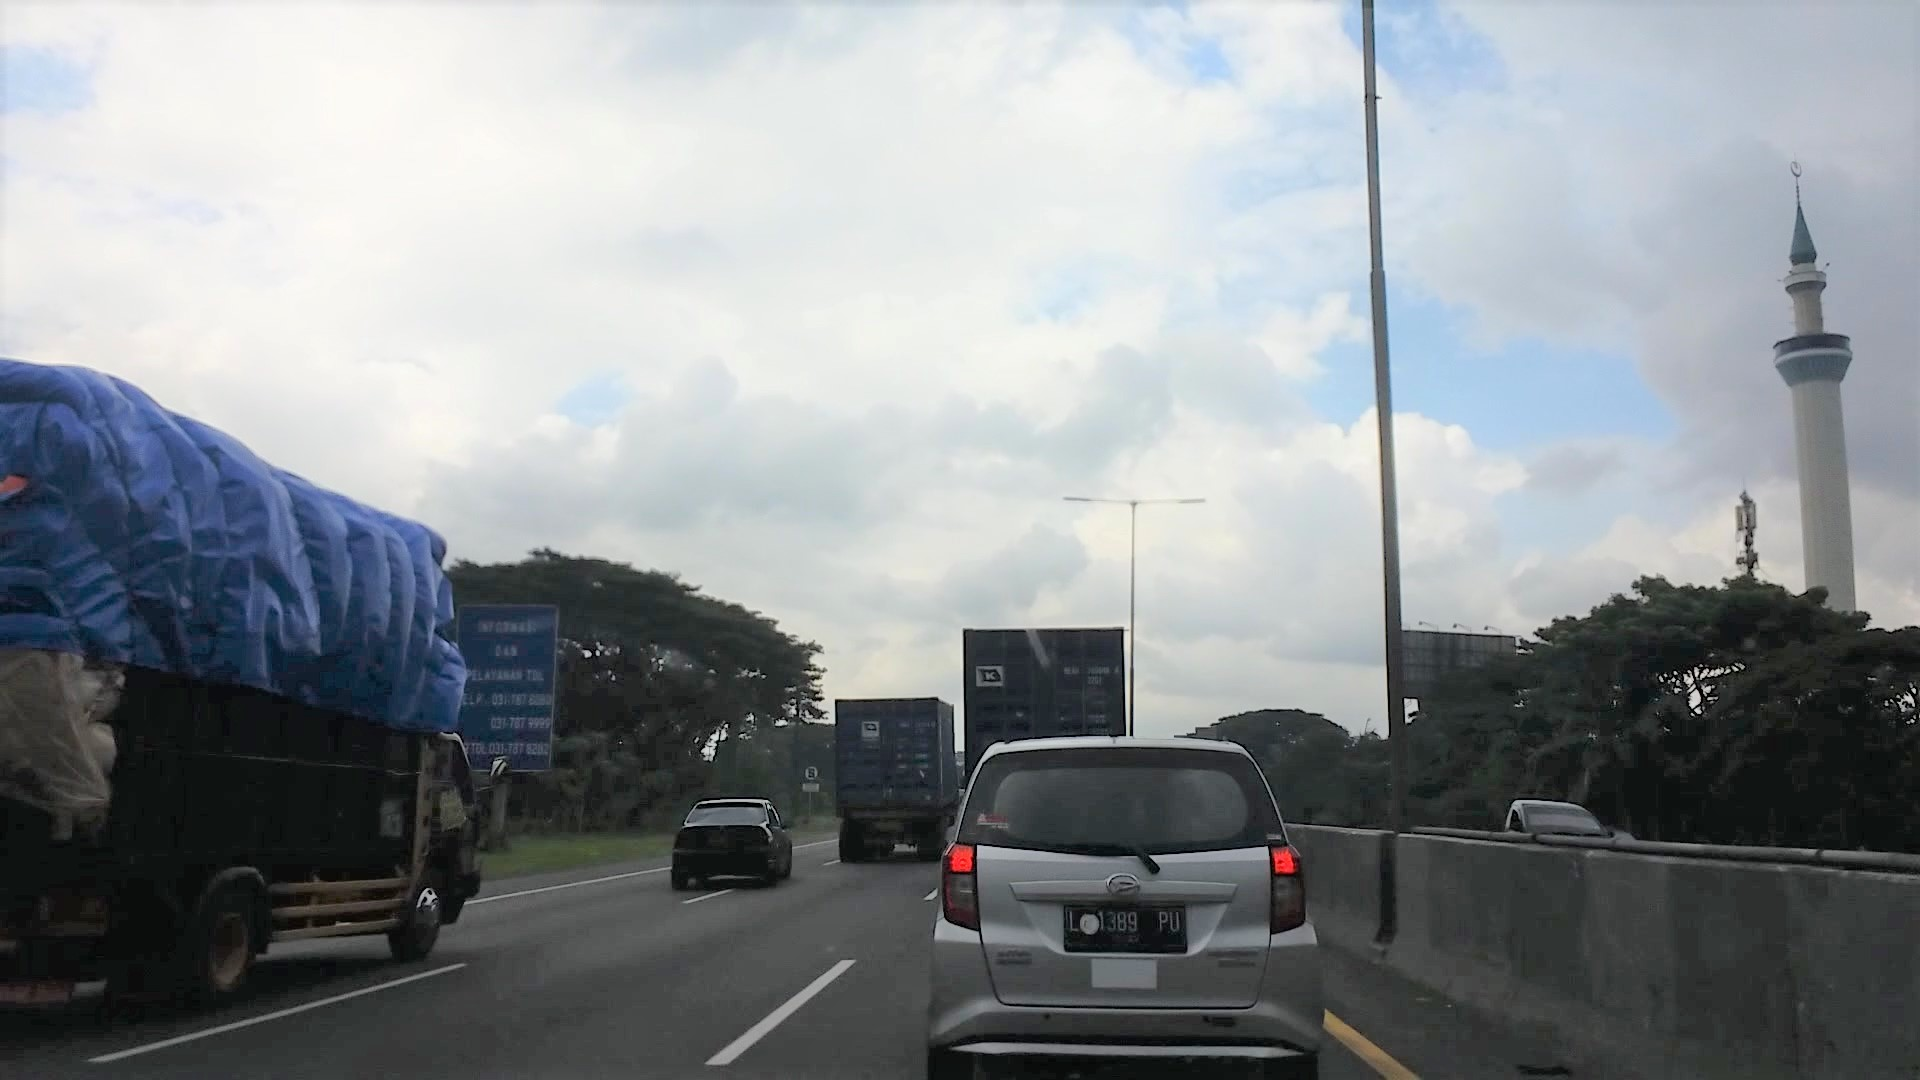plate_positive: (1064, 902, 1187, 953)
